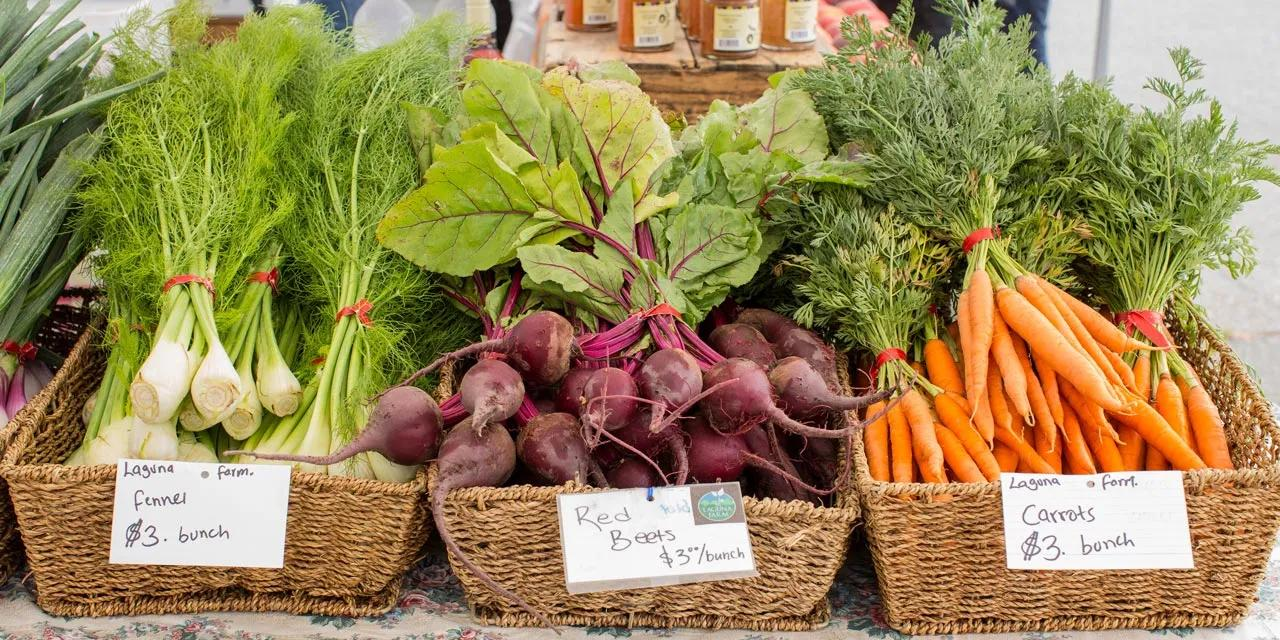beet: (379, 283, 828, 492)
carrot: (842, 139, 1262, 483)
